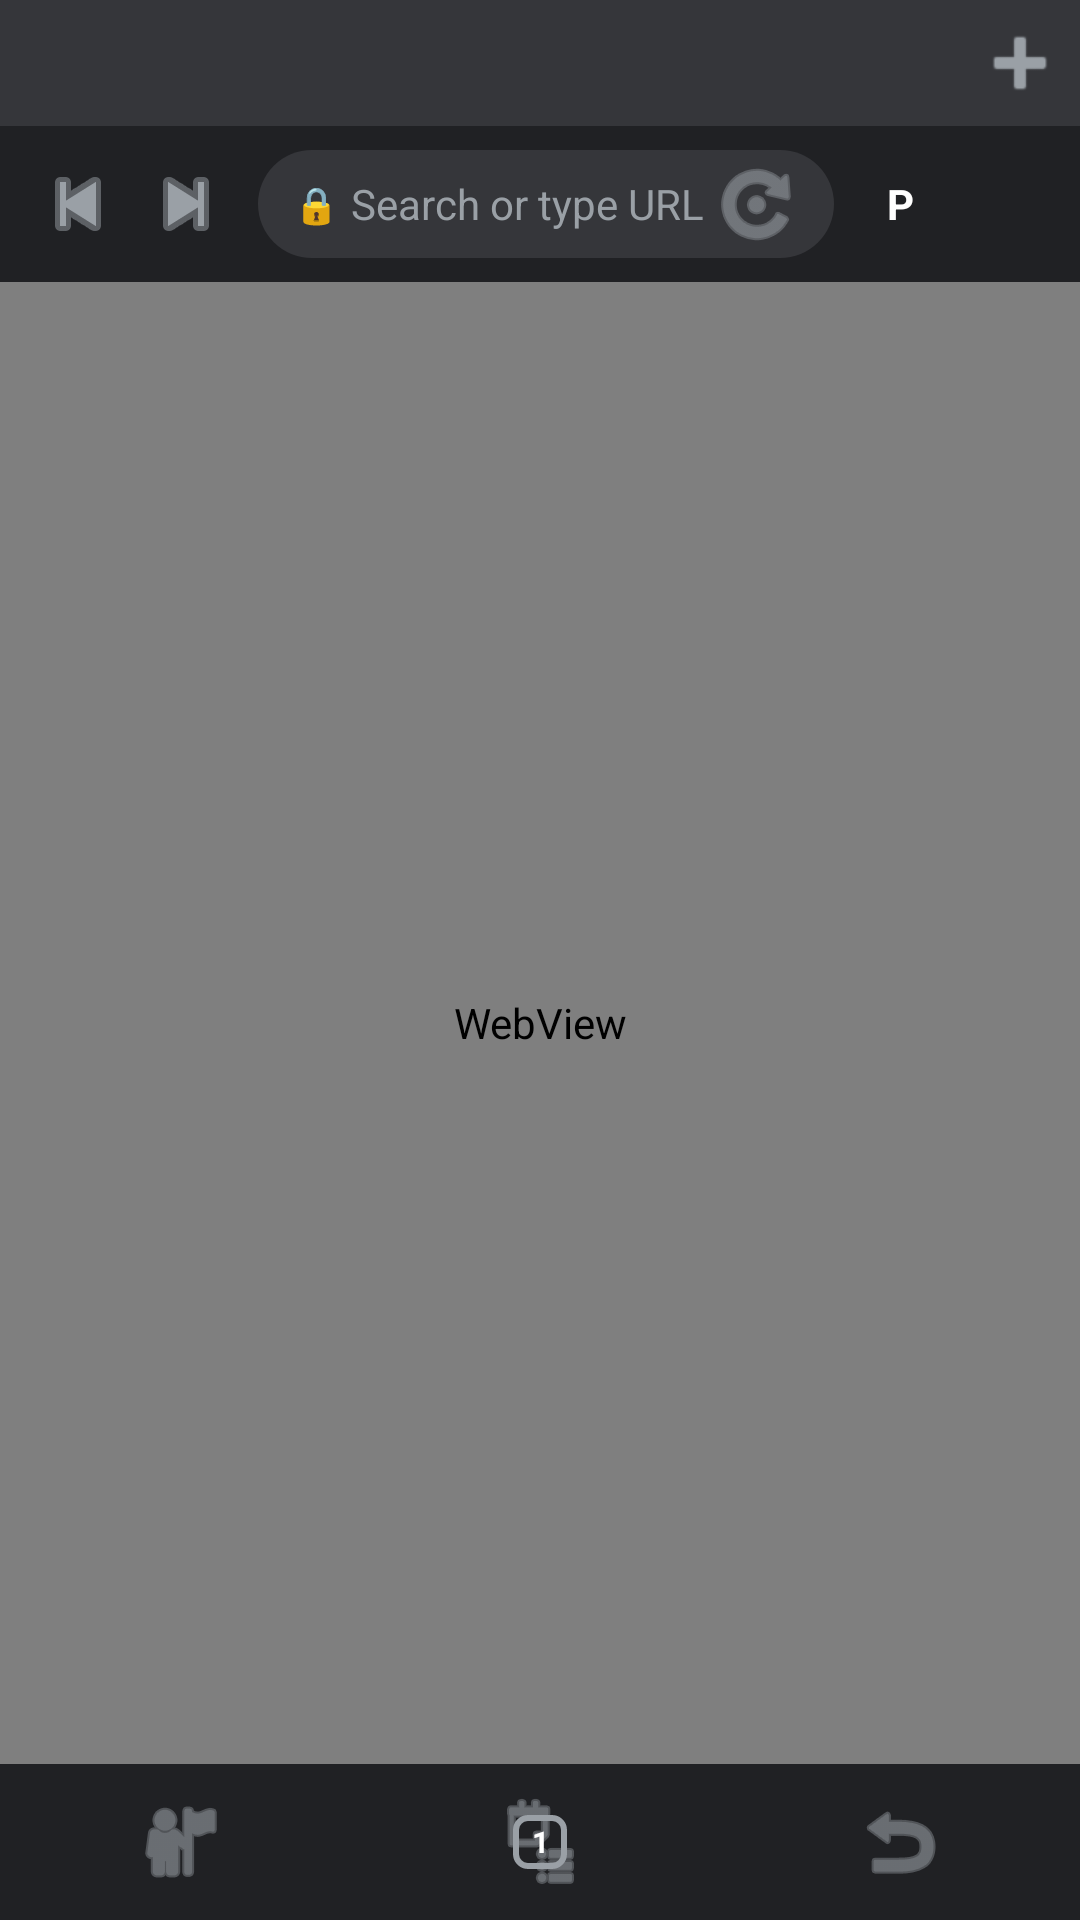

Icons on this 1080*1920 Android screen, each with its box as (x1, y1, x2, y2):
Back: (55, 177, 101, 231)
Forward: (163, 177, 209, 231)
New Tab: (993, 36, 1047, 90)
Refresh: (721, 169, 791, 240)
Tabs: (507, 1799, 574, 1884)
